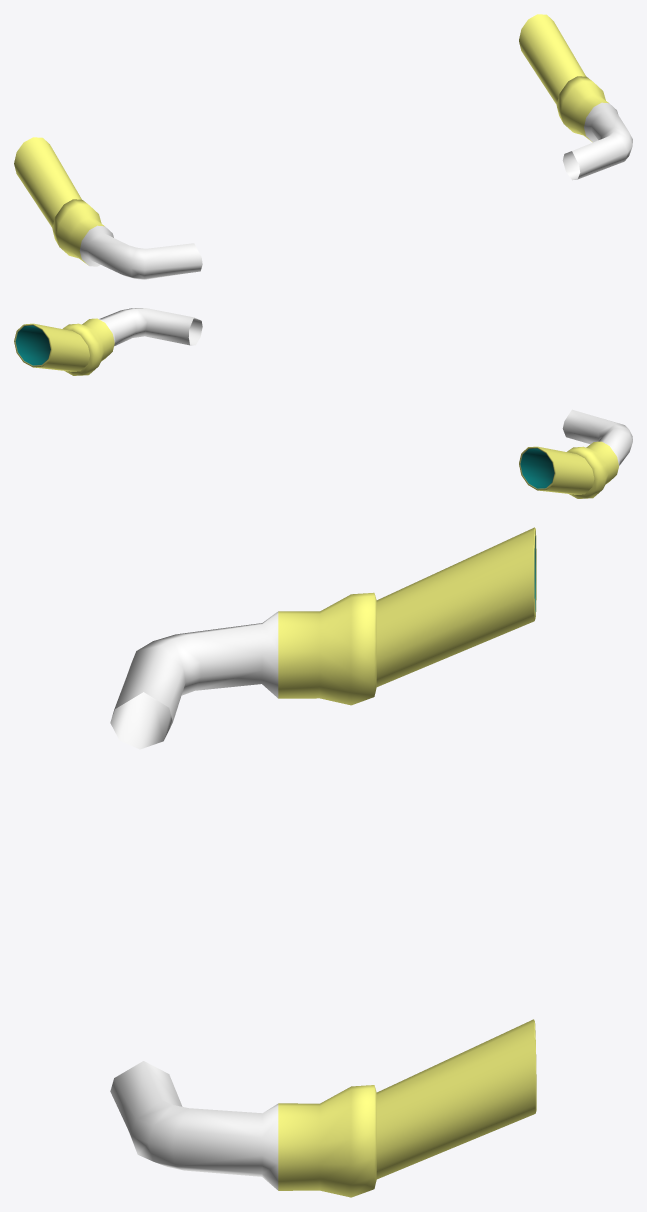
The model's file is Car_Mini_CountrymanJCW_2017_Exhausts_SetFB.fbx.
3 views of the same model, one above another, from view 1: azimuth 30°, elevation 25°; view 2: azimuth 150°, elevation 25°; view 3: azimuth 270°, elevation 25° (orthographic). The views are drawn at different scales.
Visible parts, largest first — view 1: Exhausts 6; view 2: Exhausts 6; view 3: Exhausts 6.
Part boxes in pixels (x1,y1,x2,y2): Exhausts 6: [14, 14, 632, 279]; Exhausts 6: [14, 308, 632, 498]; Exhausts 6: [110, 527, 536, 1197].
Size of the model in its own units: 1.17 by 0.1742 by 0.3928.
